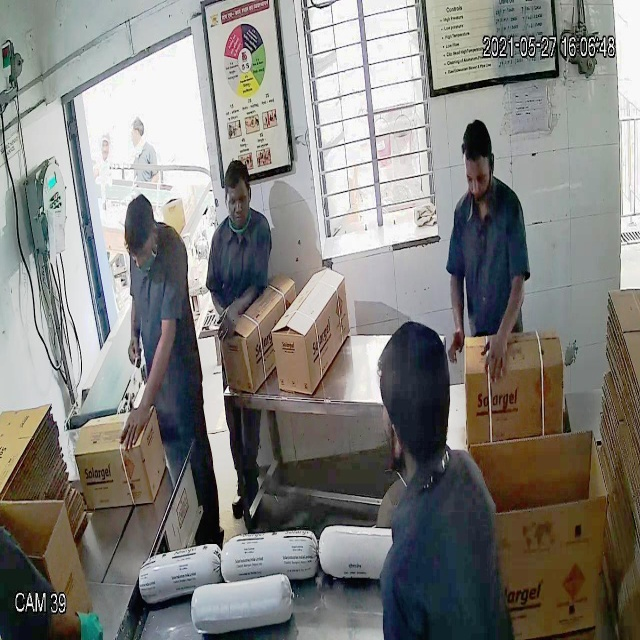Sin_gafas: (463, 159, 492, 194)
